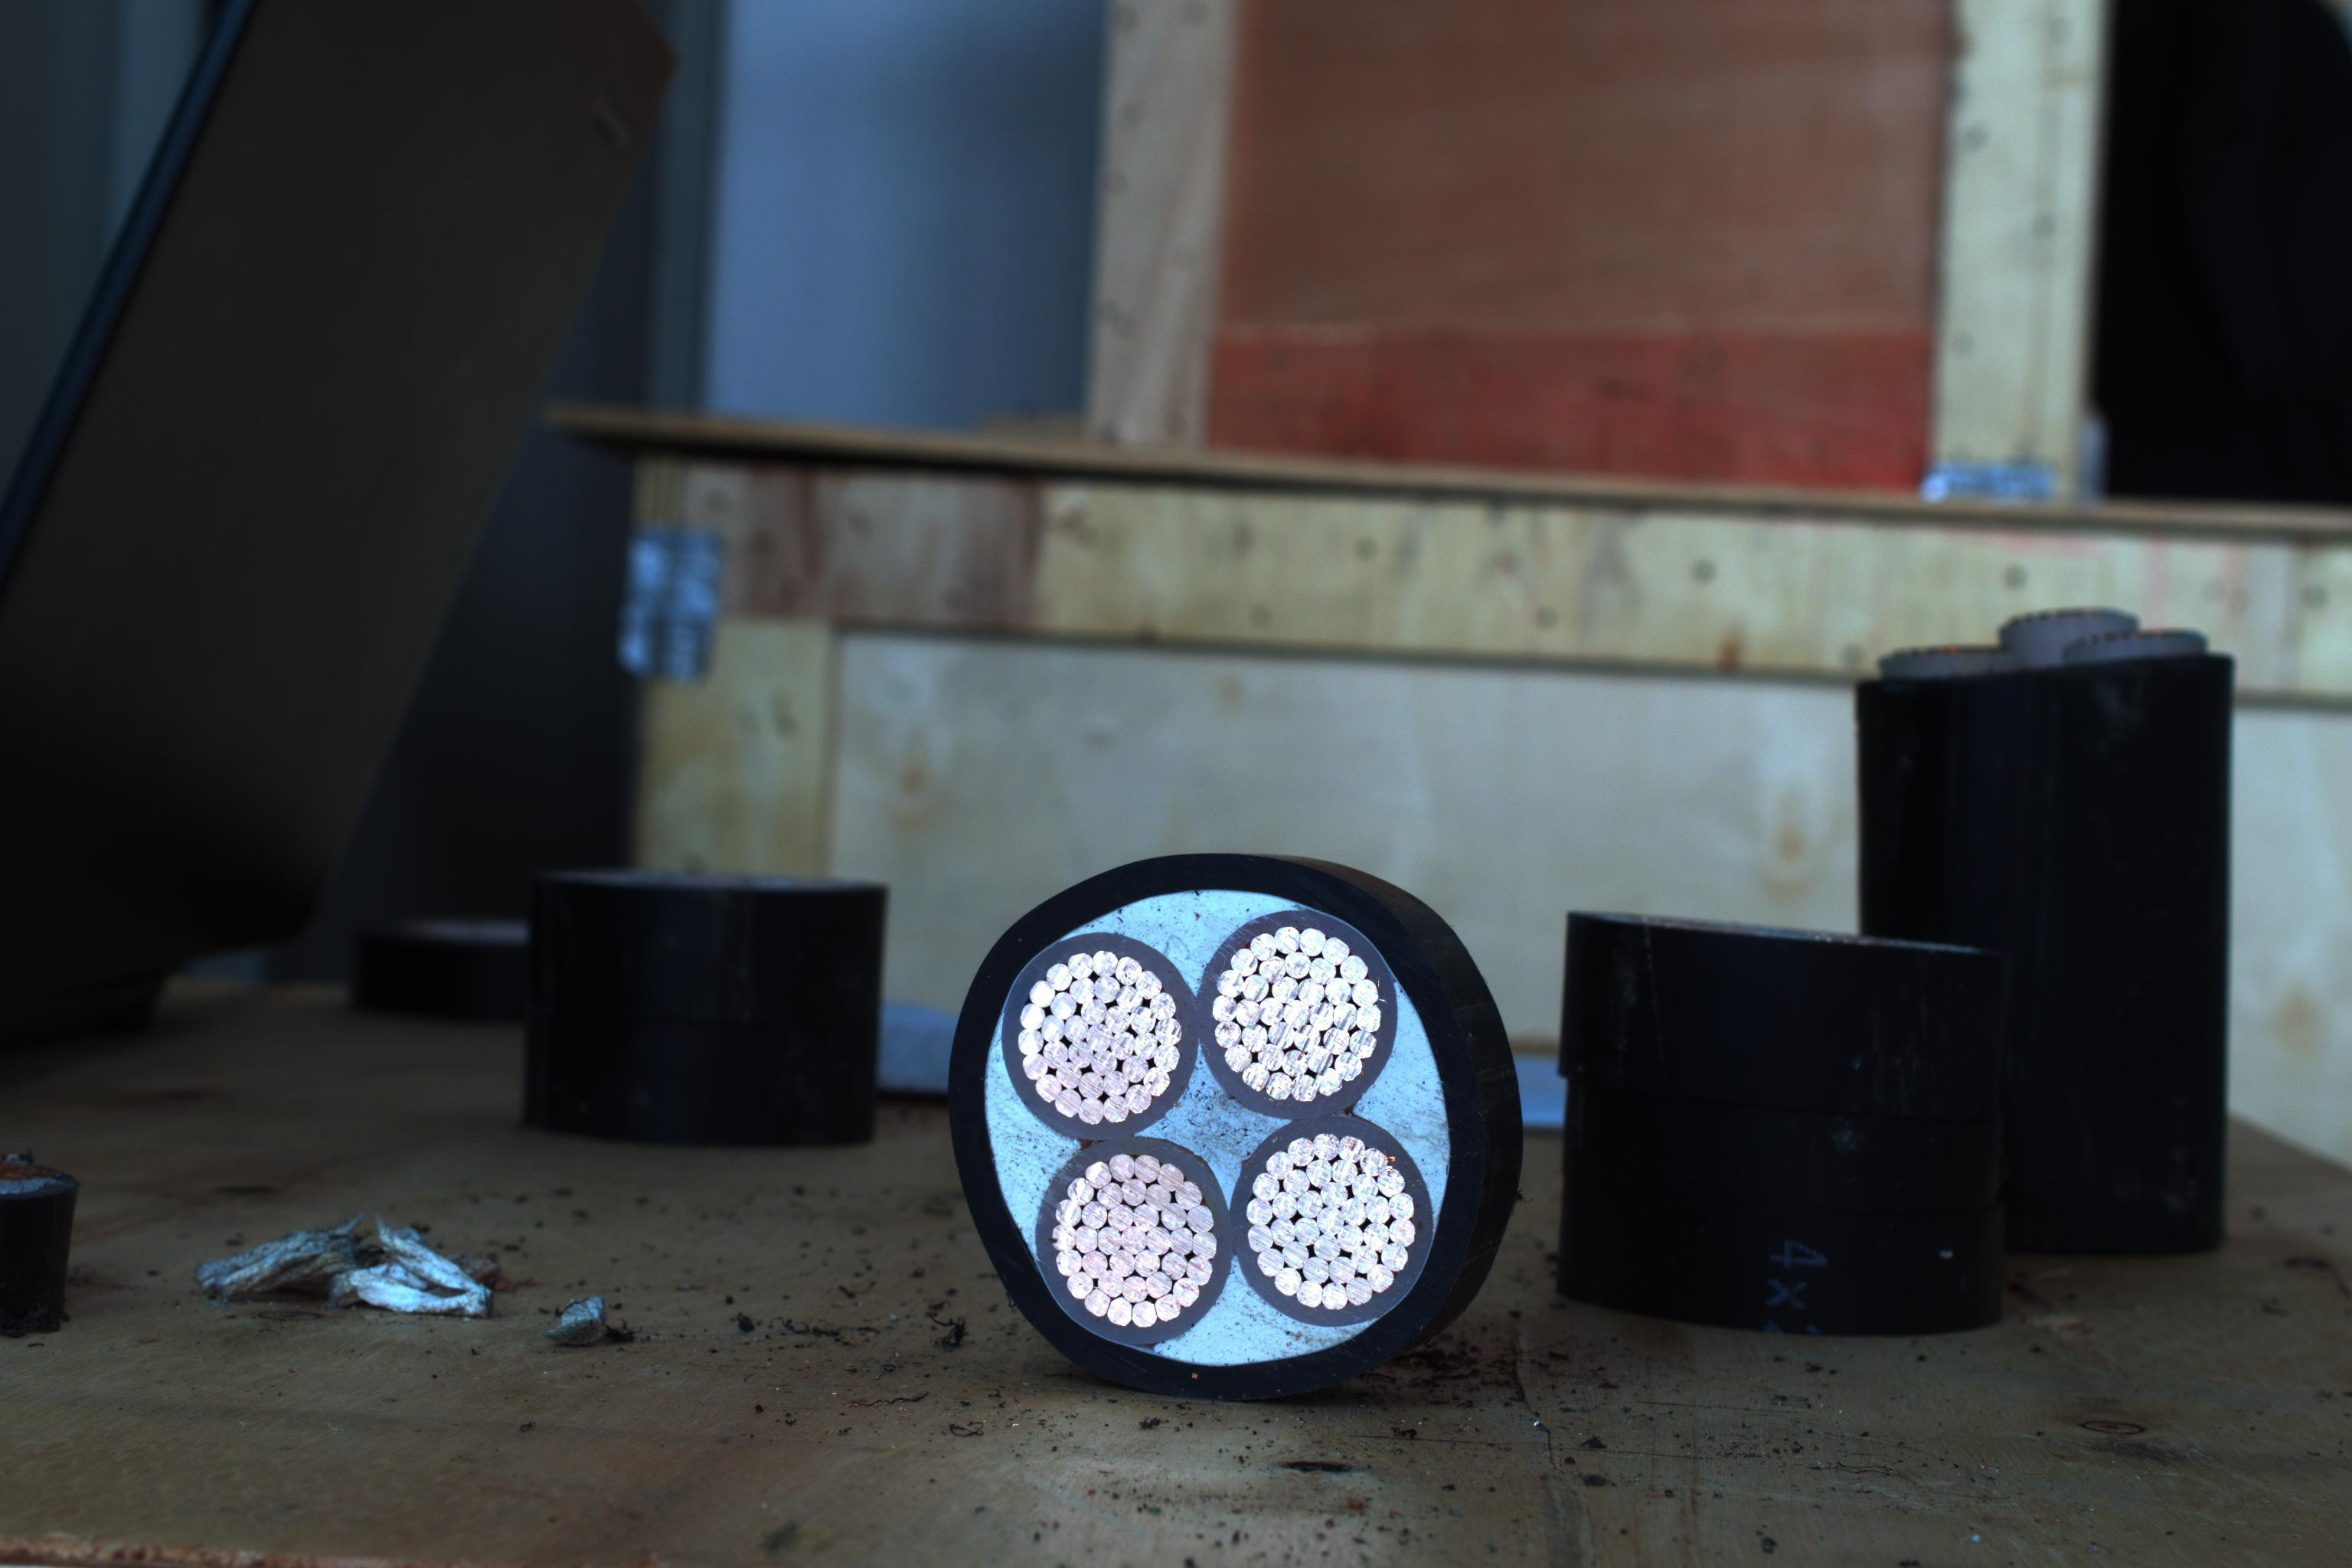YJV_0.6_1kV_4x240: (919, 863, 1484, 1384)
